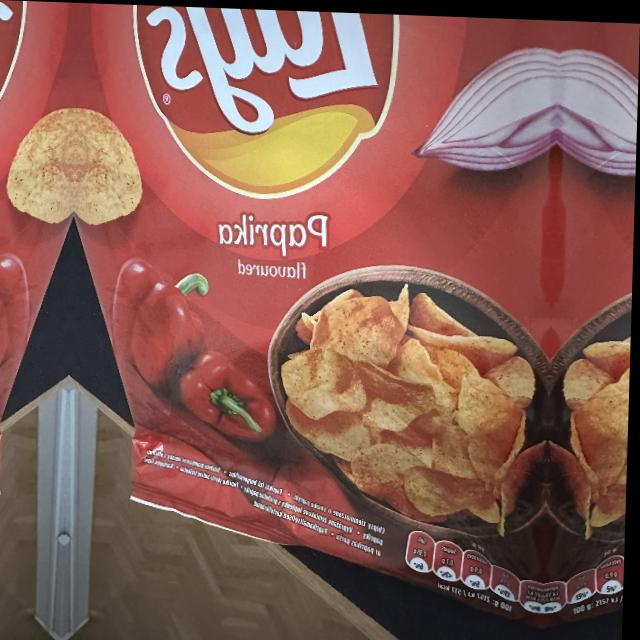lays: (134, 5, 401, 198)
